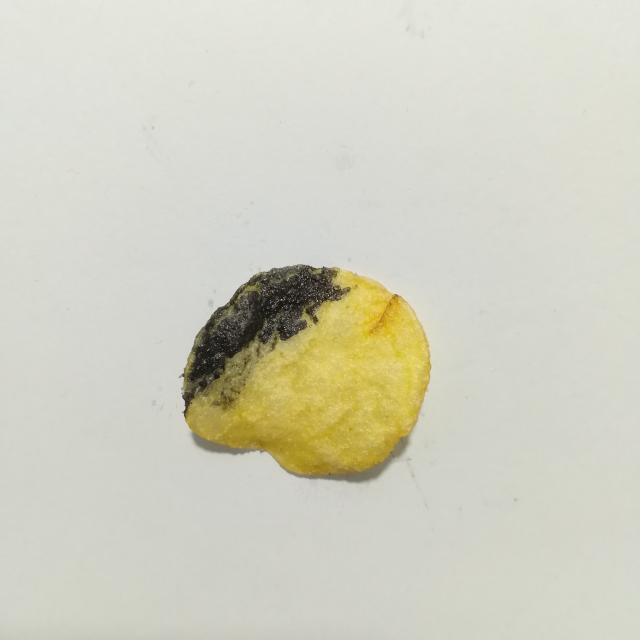chip: (182, 265, 431, 474)
damaged: (183, 265, 350, 408)
semi-damaged: (190, 333, 280, 412)
